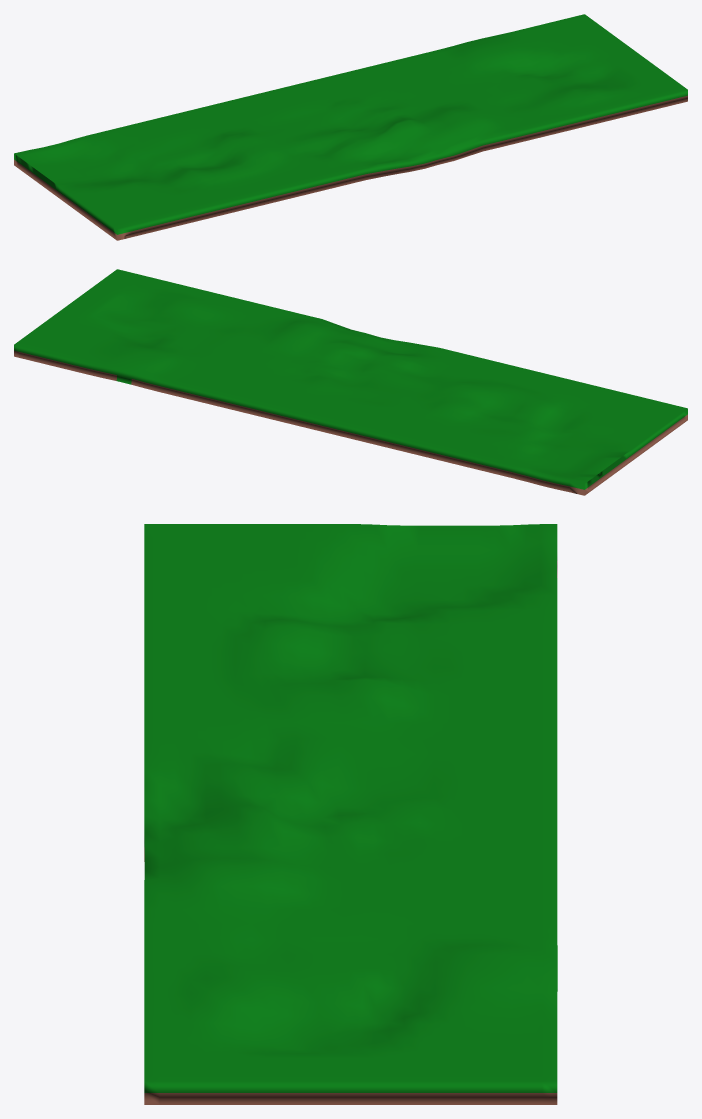
The model's file is GrassPlane1.fbx.
3 renders of one model, top to bottom at view 1: azimuth 30°, elevation 25°; view 2: azimuth 150°, elevation 25°; view 3: azimuth 270°, elevation 25°, orthographic. The views are drawn at different scales.
Visible parts, largest first — view 1: Cube; view 2: Cube; view 3: Cube.
Part boxes in pixels (x1,y1,x2,y2): Cube: (14,14,687,240); Cube: (14,269,687,495); Cube: (144,524,557,1104).
Size of the model in its own units: 1612 by 64.64 by 505.
